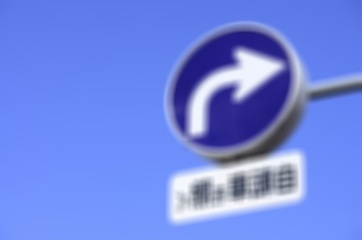Direction_sign: (172, 31, 306, 163)
